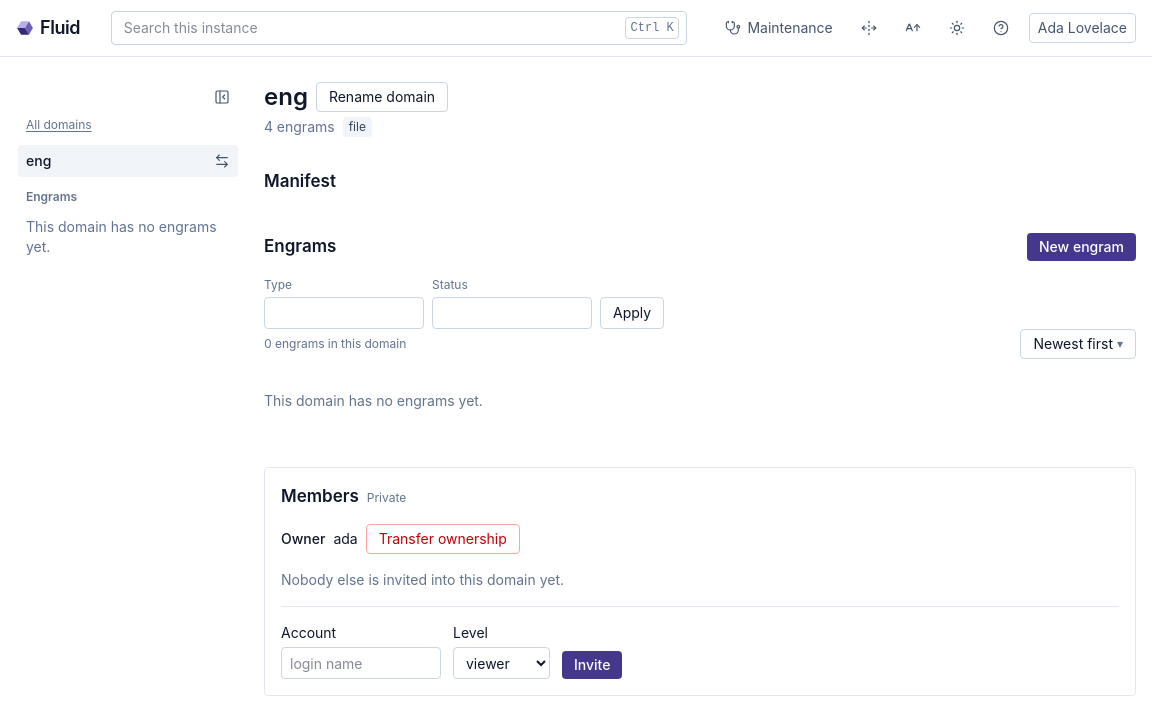
the members card › keeps a refused invite's typed name on screen instead of discarding it
Type "nobody" into the field labelled "Account".
click(361, 663); type("nobody")  # box left=281, top=647, right=441, bottom=679
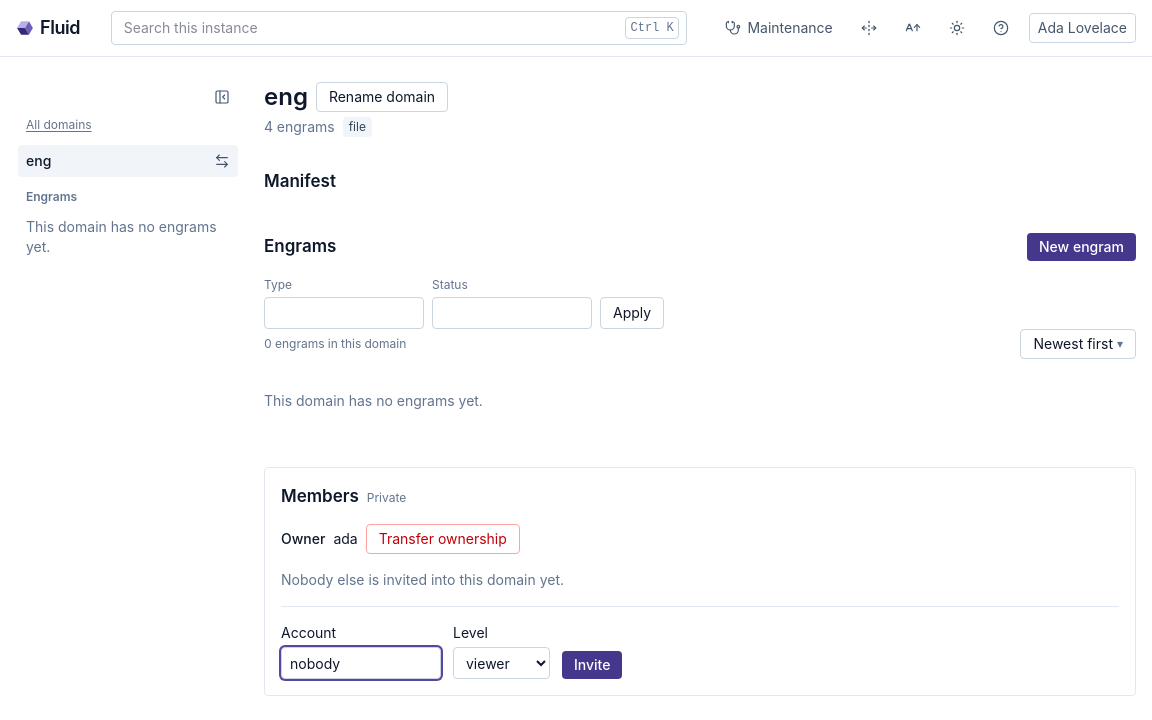
Click the button "Invite".
click(592, 665)  # box left=562, top=651, right=622, bottom=679
(page scrolled)
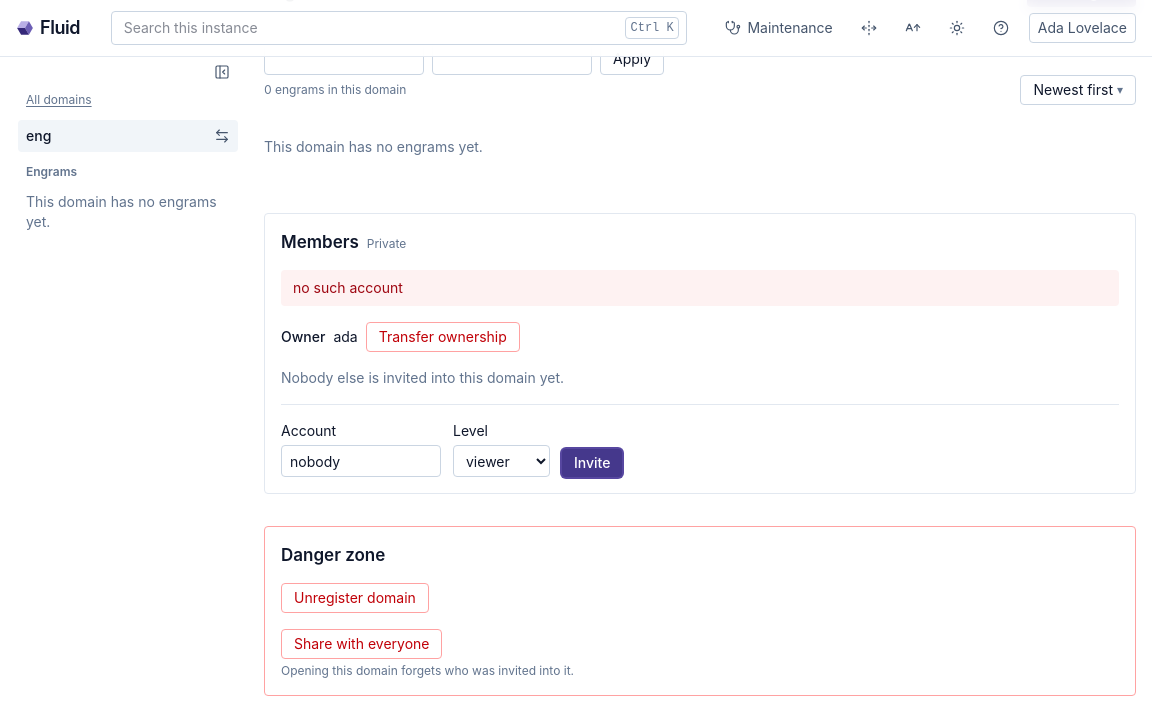
Expected: the text "no such account" is shown, left=281, top=270, right=1119, bottom=306
